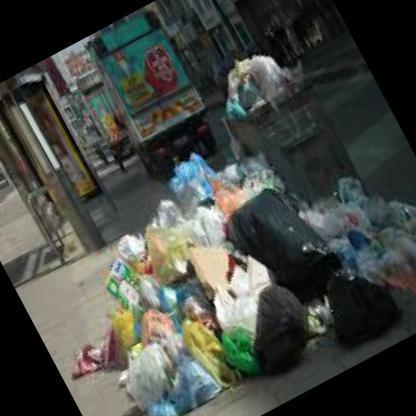Garbage: (116, 183, 300, 403), (65, 236, 235, 415), (176, 239, 336, 395), (158, 160, 294, 304), (305, 199, 415, 348), (284, 178, 397, 292)
